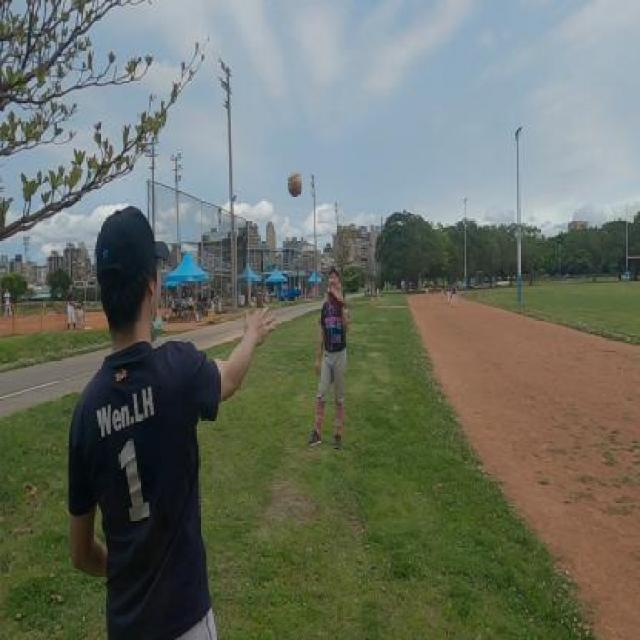baseball: (288, 170, 302, 198)
